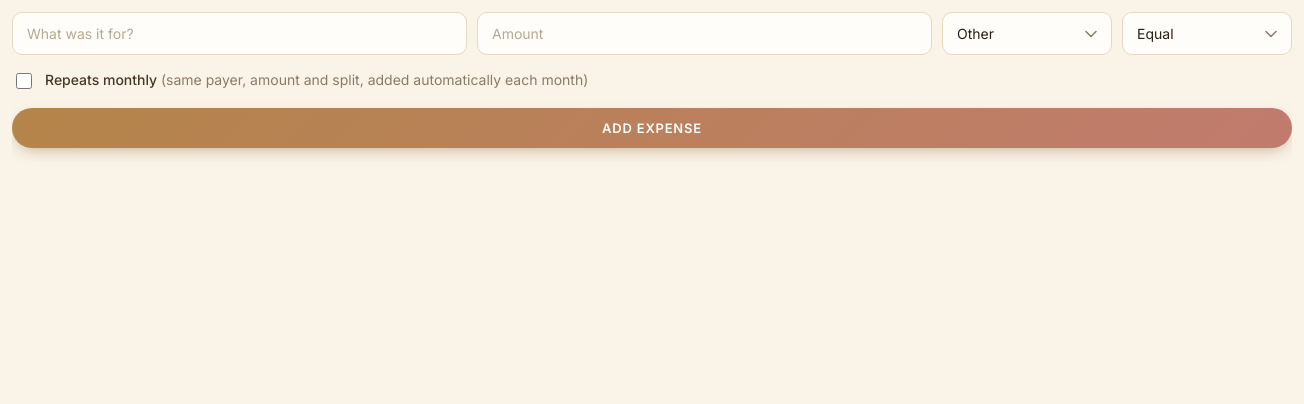
Test case: AddExpenseForm — EXACT validation › exact amounts that don't add up to the total are rejected with both figures, and nothing is sent
The image size is (1304, 404).
Step 1. Type "Test expense" into the field with placeholder "What was it for?" → (240, 34), box 12,12 -> 467,55
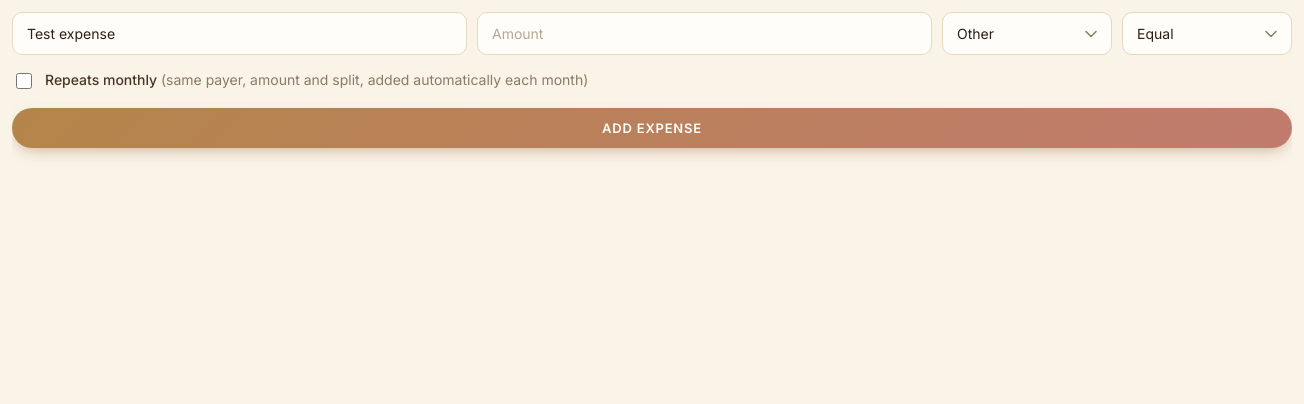
Step 2. Type "90" into the number field with placeholder "Amount" → (704, 34), box 477,12 -> 932,55
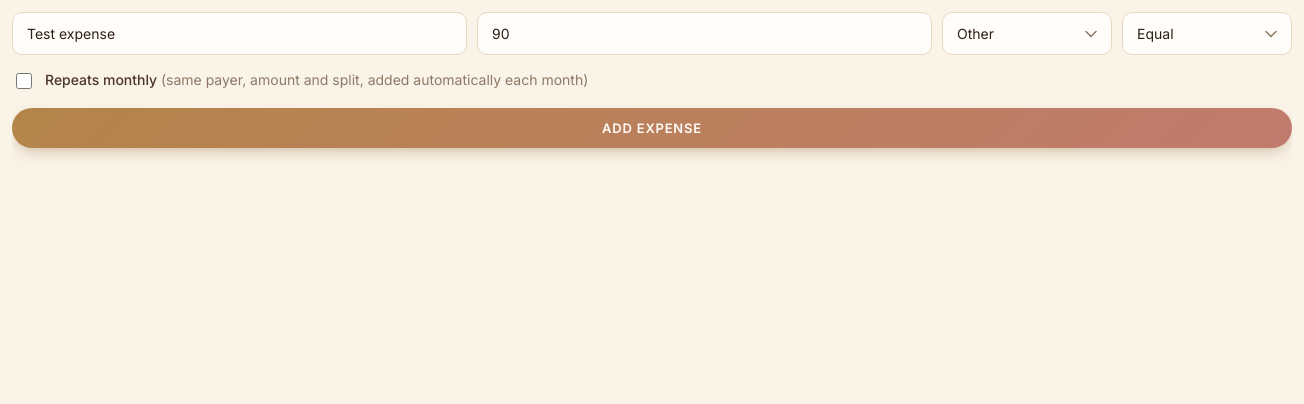
Step 3. Select "Exact amounts" in the dropdown named "Split type" → (1207, 34), box 1122,12 -> 1292,55
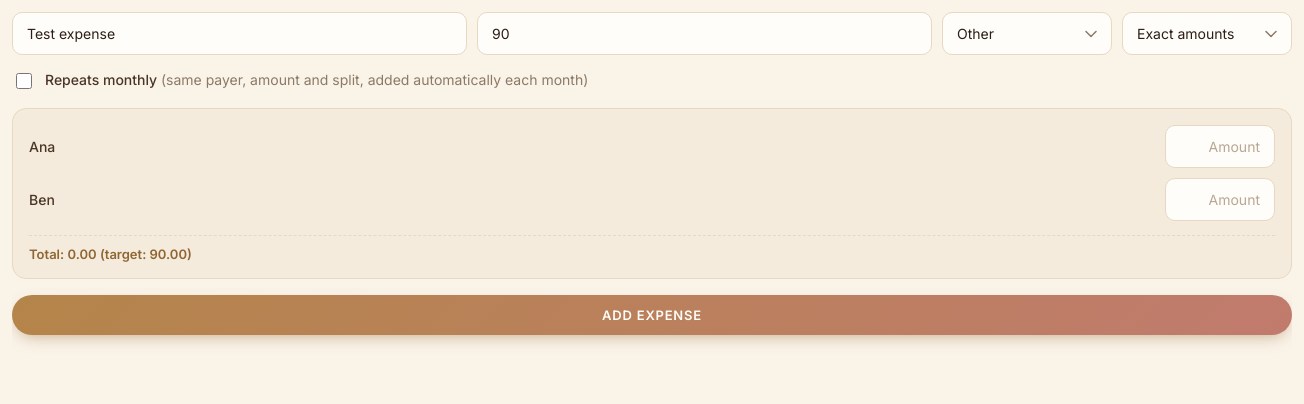
Step 4. Type "60" into the number field with placeholder "Amount" in the row of "Ana" → (1220, 146), box 1165,125 -> 1275,168
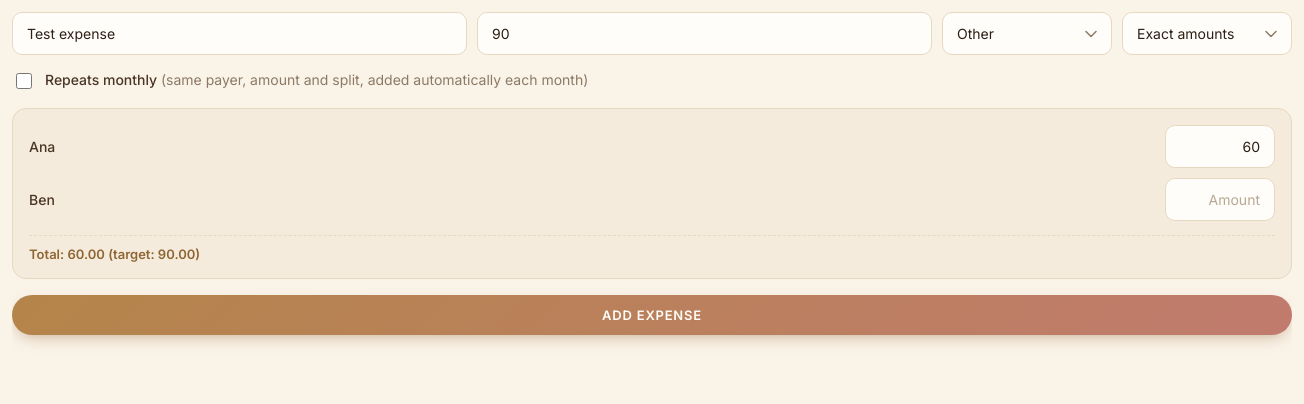
Step 5. Type "20" into the number field with placeholder "Amount" → (1220, 200), box 1165,178 -> 1275,221
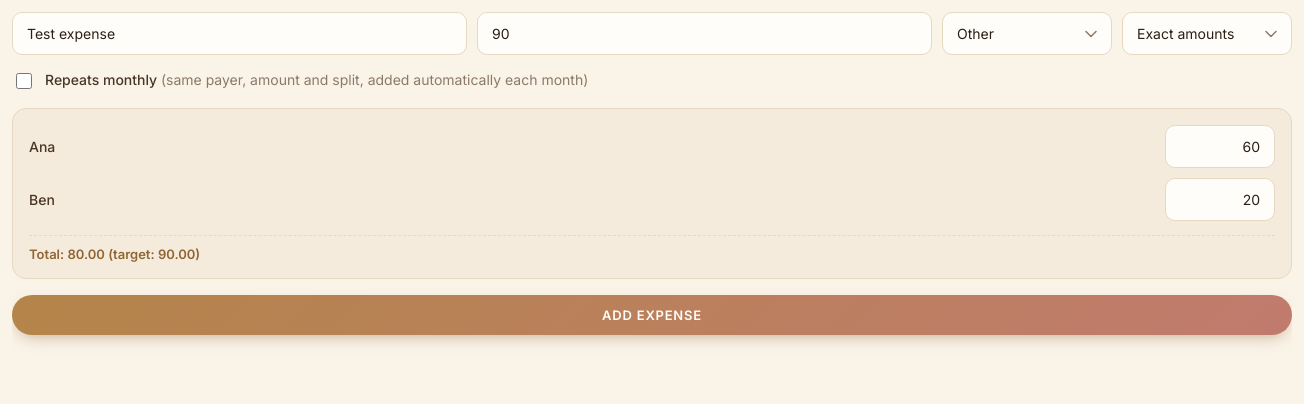
Step 6. Click the button "Add expense" → (652, 315), box 12,295 -> 1292,335
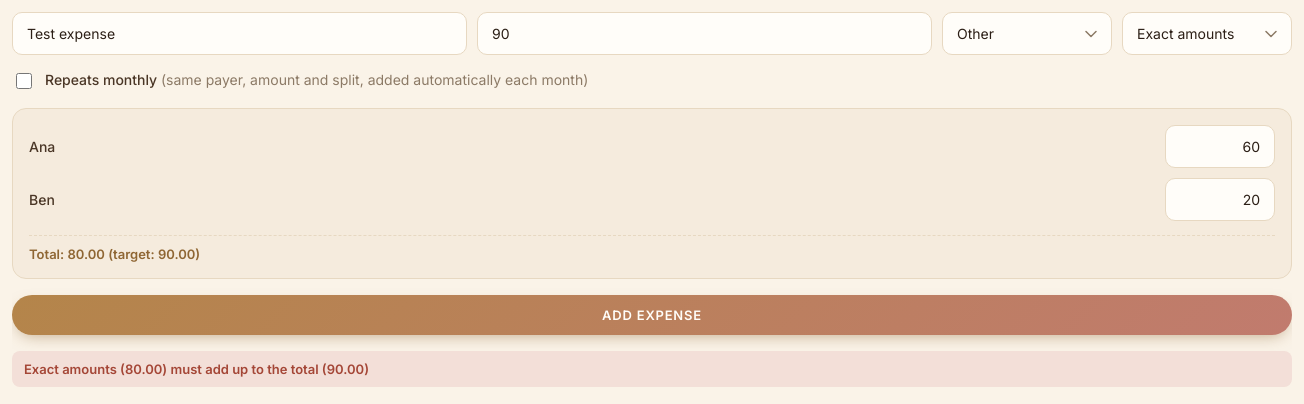
Expected: the text "Exact amounts (80.00) must add up to the total (90.00)" is shown, 12,351 -> 1292,387
